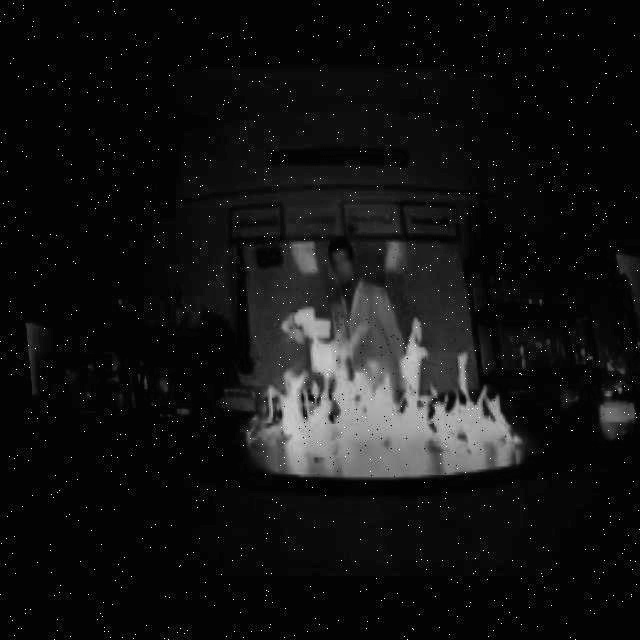Fire: (238, 293, 525, 451)
